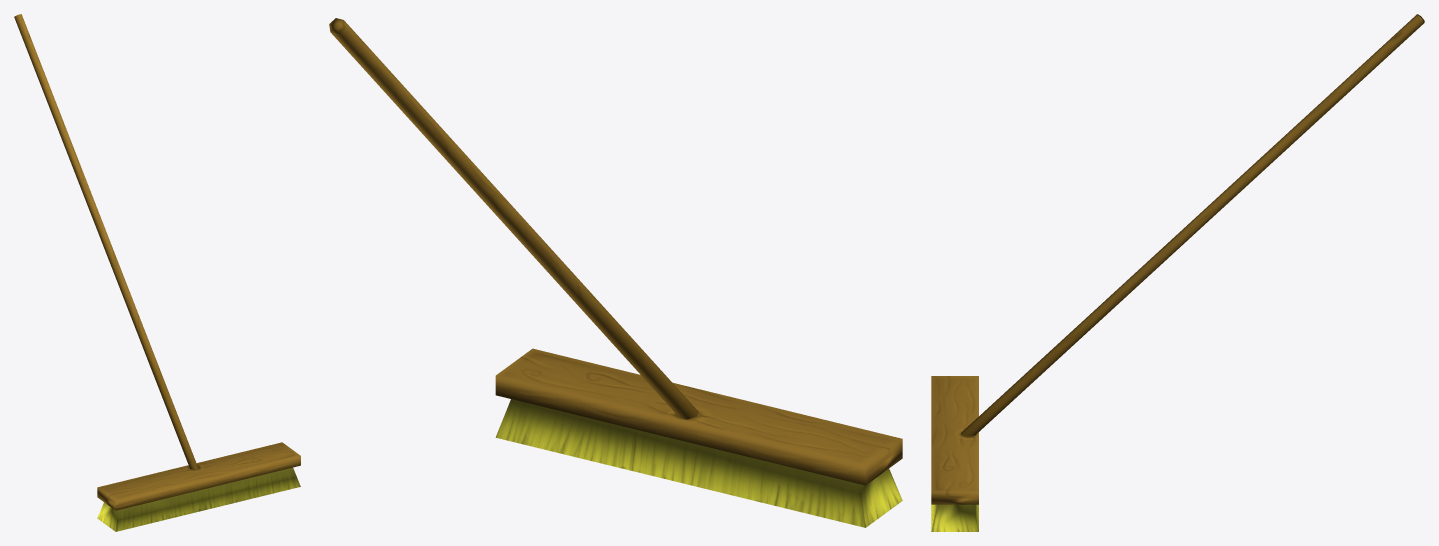
Rendered from Broom.fbx.
3 views of the same model, side by side, from view 1: azimuth 30°, elevation 25°; view 2: azimuth 150°, elevation 25°; view 3: azimuth 270°, elevation 25° (orthographic). The views are drawn at different scales.
Parts seen in each view (by area): view 1: Broom_Geo; view 2: Broom_Geo; view 3: Broom_Geo.
Boxes of the visible parts, <box> form: Broom_Geo: <box>14,14,300,531</box>; Broom_Geo: <box>329,18,902,527</box>; Broom_Geo: <box>931,14,1424,531</box>.
Size of the model in its own units: 21.18 by 39 by 38.
